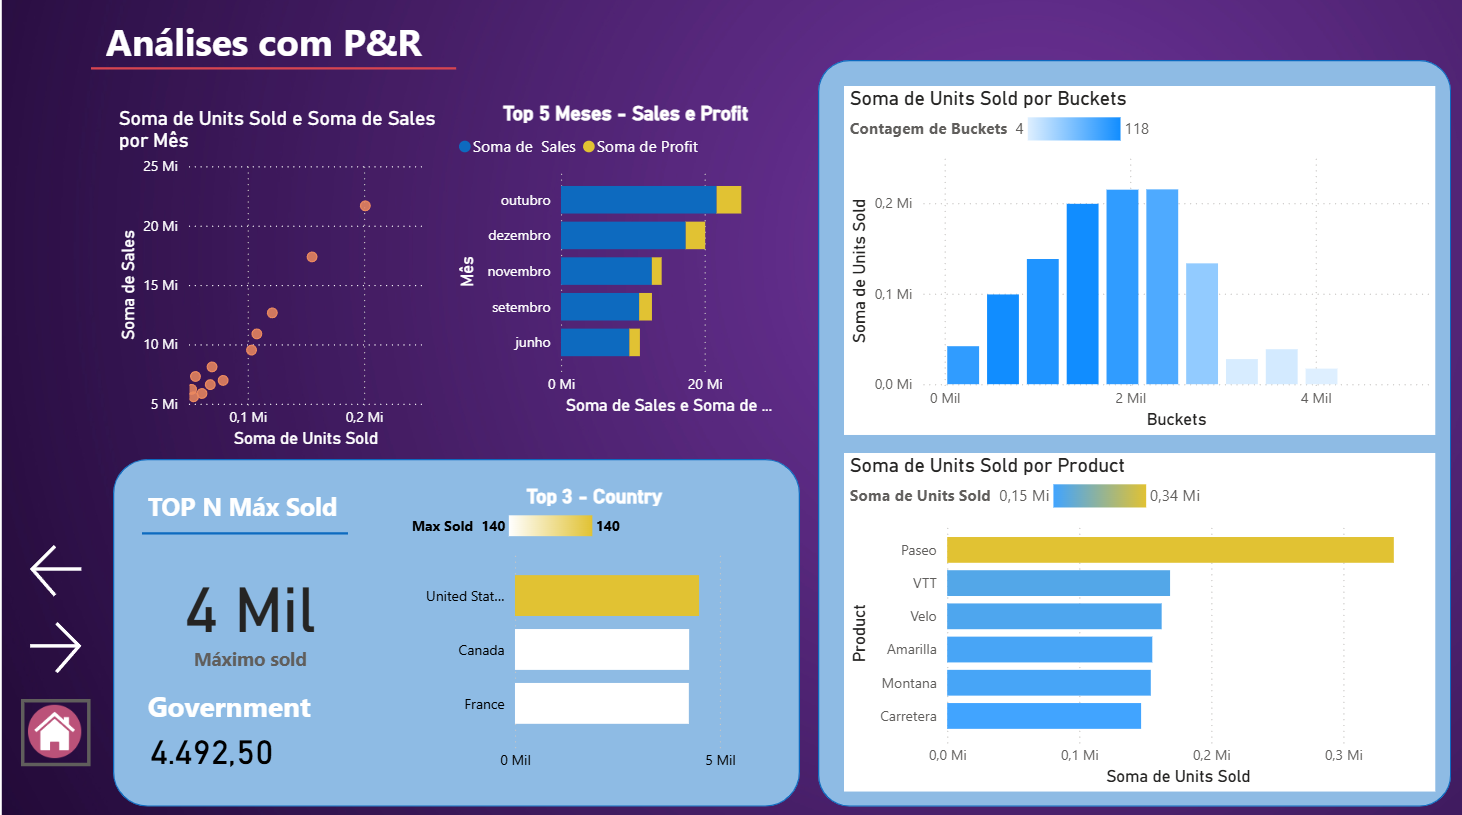

Layout of this report page (visuals, bound fields, positions):
{"tool":"powerbi","page":{"name":"Data Analytics","canvas":[1280,720],"ordinal":4},"visuals":[{"type":"image","box":[10.4,0,1269.6,720.2],"z":0},{"type":"shape","title":"Sublinhado","box":[91.9,38.4,315,57.5],"z":0,"group":"g2"},{"type":"textbox","box":[100,17.2,312.9,69.7],"z":1000,"group":"g2"},{"type":"actionButton","title":"Botão - Next","box":[32.4,539.2,58,56.3],"z":1000},{"type":"actionButton","title":"Botão - Next","box":[34.3,472.4,57.5,56.5],"z":2000},{"type":"image","box":[32.3,611.7,57.5,55.5],"z":2000,"group":"g1"},{"type":"group","id":"g1","title":"Botão Home","box":[32.3,611.7,60,58],"z":3000},{"type":"actionButton","box":[32.3,611.7,60,58],"z":3000,"group":"g1"},{"type":"shape","box":[111,404.8,592.6,299.8],"z":4000},{"type":"card","fields":{"Values":["financials.Máximo sold"]},"box":[136.3,481.5,186.8,114.1],"z":5000},{"type":"textbox","box":[136.3,426,299.8,55.5],"z":6000},{"type":"shape","box":[136.3,454.3,177.7,28.3],"z":7000},{"type":"clusteredBarChart","title":"Top 3 - Country","fields":{"Category":["financials.Country"],"Y":["financials.Máximo sold"]},"box":[364.4,426,325,256.4],"z":8000},{"type":"card","fields":{"Values":["financials.Máximo sold"]},"box":[124.2,629.9,144.4,52.5],"z":9000},{"type":"textbox","box":[136.3,595.6,162.5,64.6],"z":10000},{"type":"barChart","title":"Top 5 Meses - Sales e Profit","fields":{"Category":["financials.Date.Variation.Hierarquia de datas.Mês"],"Y":["Sum(financials. Sales)","Sum(financials.Profit)"]},"box":[403.8,95.9,299.8,275.6],"z":11000},{"type":"group","id":"g2","title":"Titulo","box":[91.9,17.2,321,78.7],"z":12000},{"type":"shape","box":[719.7,60.6,546.1,644],"z":13000},{"type":"scatterChart","fields":{"Category":["financials.Date.Variation.Hierarquia de datas.Mês"],"X":["Sum(financials.Units Sold)"],"Y":["Sum(financials. Sales)"]},"box":[111,99.9,288.7,299.8],"z":14000},{"type":"clusteredColumnChart","fields":{"Category":["financials.Buckets"],"Y":["Sum(financials.Units Sold)"]},"box":[741.4,82.4,509.6,300.5],"z":14001},{"type":"clusteredBarChart","fields":{"Y":["Sum(financials.Units Sold)"],"Category":["financials.Product"]},"box":[741.4,399.2,509.6,292.4],"z":14002}]}

Visuals, with their boxes in screenshot pixels (x1, y1, x2, y2), scaled from the page's 1280x720 canvas onto the 1462x815 screenshot:
image: 12, 0, 1461, 814
"Sublinhado" shape: 105, 43, 465, 109
textbox: 114, 19, 472, 98
"Botão - Next" actionButton: 37, 610, 103, 674
"Botão - Next" actionButton: 39, 535, 105, 599
image: 37, 692, 103, 755
"Botão Home" group: 37, 692, 105, 758
actionButton: 37, 692, 105, 758
shape: 127, 458, 804, 798
card - financials.Máximo sold: 156, 545, 369, 674
textbox: 156, 482, 498, 545
shape: 156, 514, 359, 546
"Top 3 - Country" clusteredBarChart: 416, 482, 787, 772
card - financials.Máximo sold: 142, 713, 307, 772
textbox: 156, 674, 341, 747
"Top 5 Meses - Sales e Profit" barChart: 461, 109, 804, 421
"Titulo" group: 105, 19, 472, 109
shape: 822, 69, 1446, 798
scatterChart - financials.Date.Variation.Hierarquia de datas.Mês x Sum(financials.Units Sold): 127, 113, 457, 452
clusteredColumnChart - financials.Buckets x Sum(financials.Units Sold): 847, 93, 1429, 433
clusteredBarChart - Sum(financials.Units Sold) x financials.Product: 847, 452, 1429, 783
